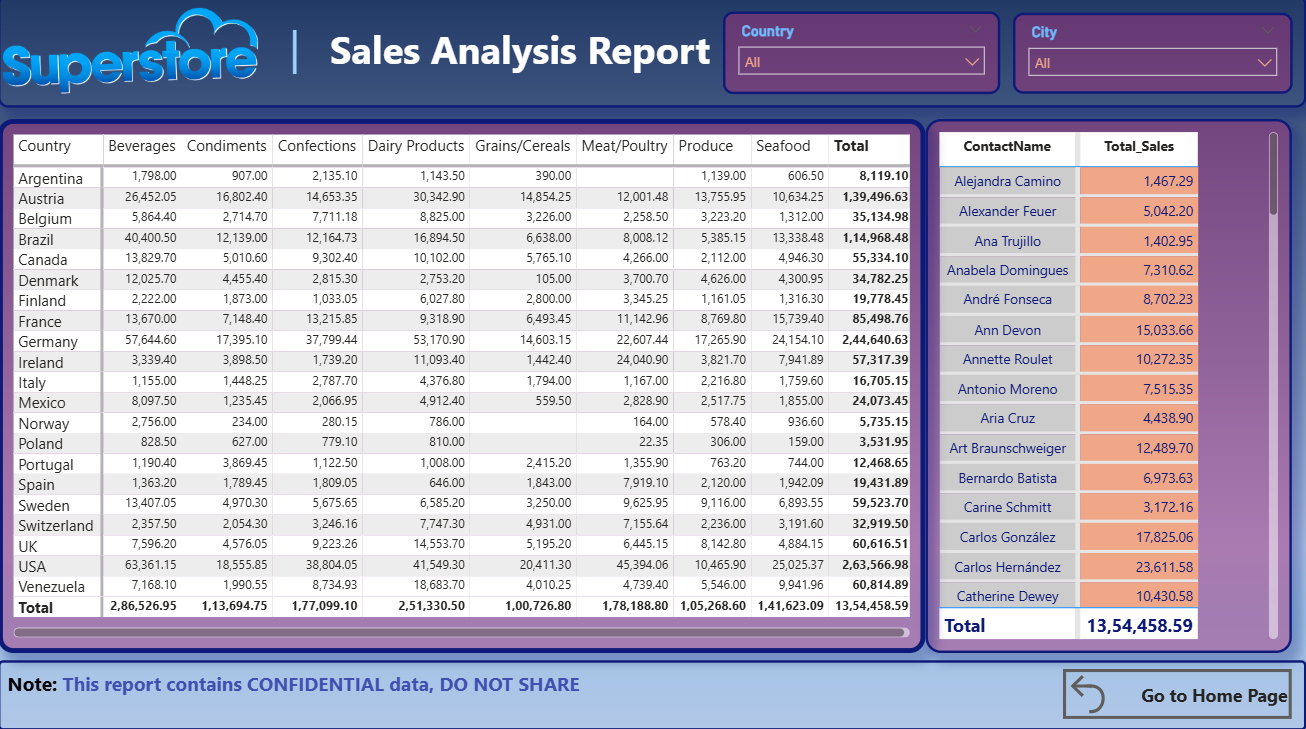

The page's visual inventory and layout, read from the dashboard file:
{"tool":"powerbi","page":{"name":"Sales Analysis","canvas":[1280,720],"ordinal":2},"visuals":[{"type":"textbox","box":[0,0,1280.3,111.3],"z":0},{"type":"image","box":[0,0,259.2,111.3],"z":1000},{"type":"textbox","box":[272.7,17.1,436.6,94.2],"z":2000},{"type":"textbox","box":[0,651.8,1280.3,68.5],"z":3000},{"type":"slicer","fields":{"Values":["Customers.City"]},"box":[992.9,18.3,273.9,79.5],"z":4000},{"type":"actionButton","box":[1041.9,660.3,223.8,48.9],"z":5000},{"type":"slicer","fields":{"Values":["Customers.Country"]},"box":[709.2,17.1,271.5,80.7],"z":6000},{"type":"tableEx","fields":{"Values":["Customers.ContactName","Order_Details.Total_Sales"]},"box":[907.5,122.5,358.8,522.5],"z":7000},{"type":"pivotTable","fields":{"Rows":["Customers.Country"],"Columns":["Categories.CategoryName"],"Values":["Order_Details.Total_Sales"]},"box":[0,122.3,907.3,522.1],"z":8000}]}

Visuals, with their boxes in screenshot pixels (x1, y1, x2, y2), scaled from the page's 1280x720 canvas onto the 1306x729 screenshot:
textbox: select_region(0, 0, 1305, 113)
image: select_region(0, 0, 264, 113)
textbox: select_region(278, 17, 724, 113)
textbox: select_region(0, 660, 1305, 728)
slicer - Customers.City: select_region(1013, 19, 1293, 99)
actionButton: select_region(1063, 669, 1291, 718)
slicer - Customers.Country: select_region(724, 17, 1001, 99)
tableEx - Customers.ContactName x Order_Details.Total_Sales: select_region(926, 124, 1292, 653)
pivotTable - Customers.Country x Categories.CategoryName: select_region(0, 124, 926, 652)
